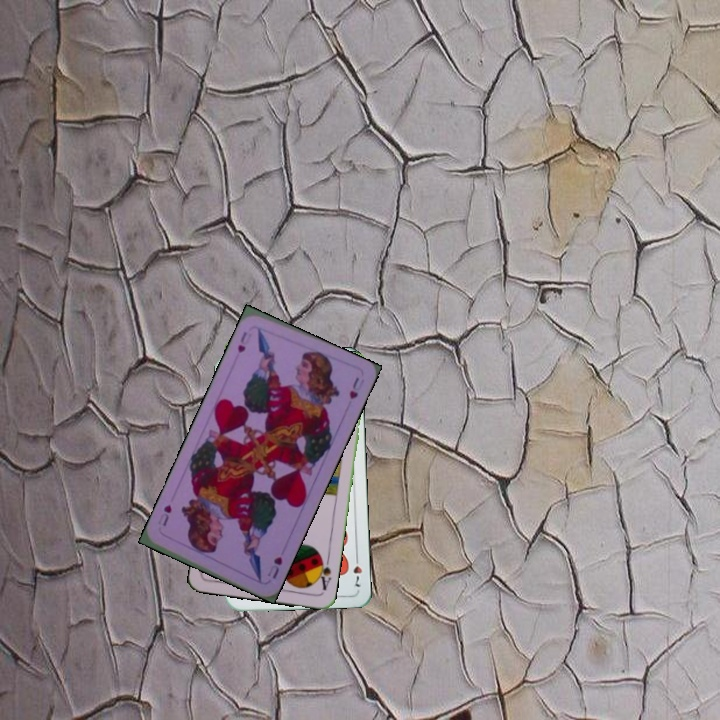H7: (349, 551, 365, 589)
HU: (263, 552, 285, 581), (233, 327, 254, 356)
SA: (313, 552, 334, 593)
